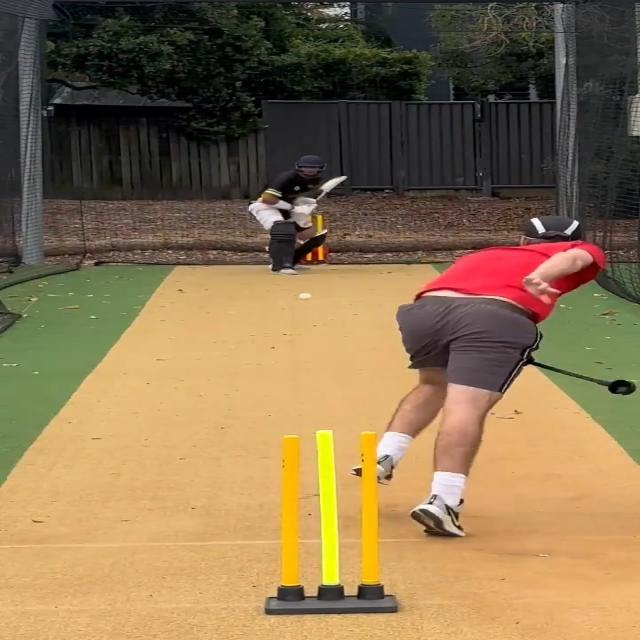ball: (297, 290, 315, 301)
stump: (260, 426, 400, 614)
